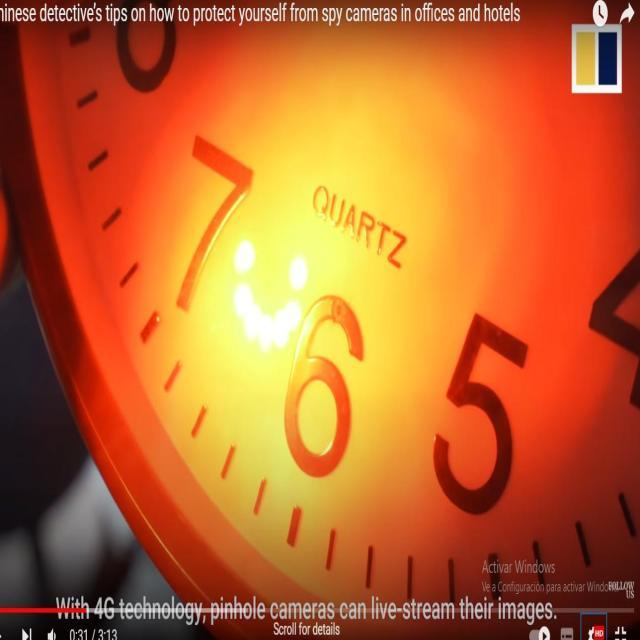hidden camera: (327, 282, 354, 337)
